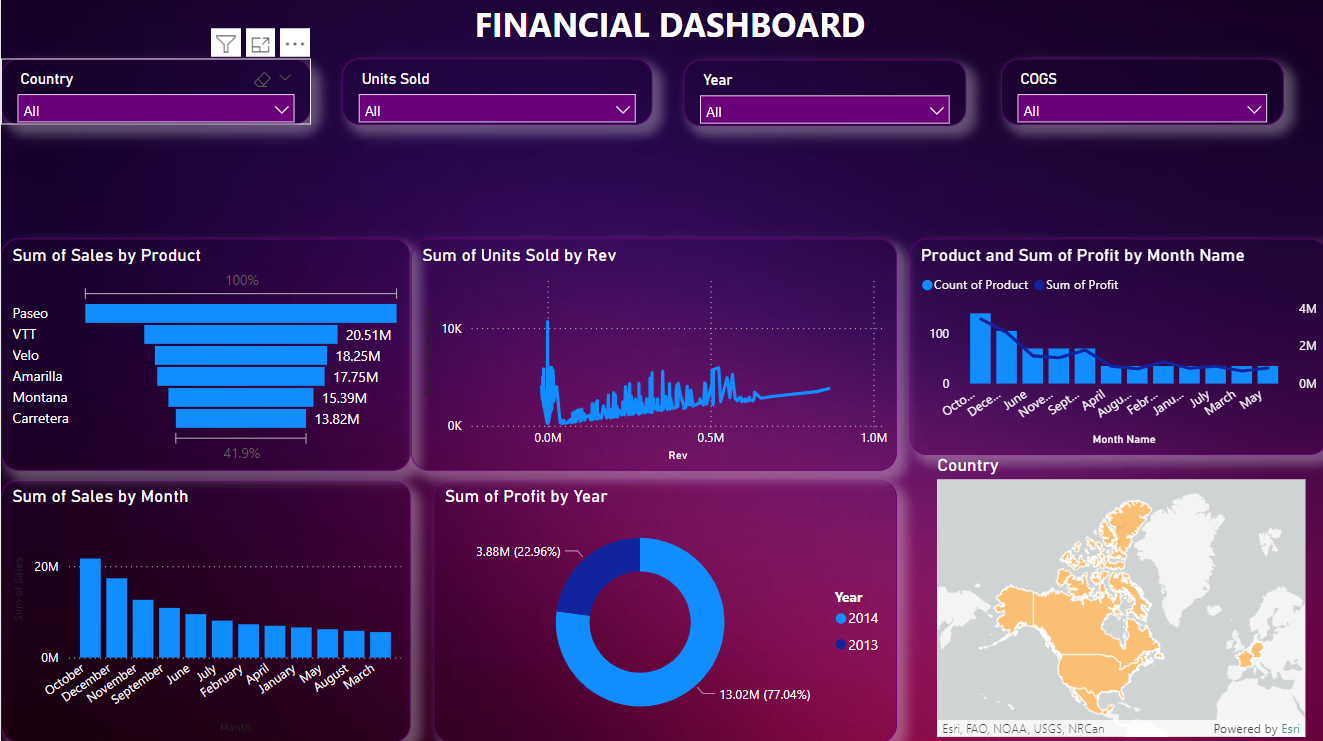

What the dashboard file says about the page in this screenshot:
{"tool":"powerbi","page":{"name":"Page 1","canvas":[1280,720],"ordinal":0},"visuals":[{"type":"textbox","box":[252.5,0,859,68.6],"z":0},{"type":"clusteredColumnChart","fields":{"Y":["Sum(financials. Sales)"],"Category":["financials.Month Name"]},"box":[0,466.7,395.6,253.3],"z":1000},{"type":"slicer","fields":{"Values":["financials.Country"]},"box":[0,60.3,299.1,63.9],"z":2000},{"type":"slicer","fields":{"Values":["financials.Units Sold"]},"box":[329.2,60.3,299.1,63.9],"z":3000},{"type":"slicer","fields":{"Values":["financials.Year"]},"box":[658.5,61.5,272.6,63.9],"z":4000},{"type":"donutChart","fields":{"Y":["Sum(financials.Profit)"],"Category":["financials.Year"]},"box":[417.3,466.7,447.4,253.3],"z":4001},{"type":"esriVisual","title":"Country","fields":{"Location":["financials.Country"]},"box":[898.5,442.6,365.4,277.4],"z":4002},{"type":"slicer","fields":{"Values":["financials.COGS"]},"box":[964.8,60.3,272.6,63.9],"z":4003},{"type":"funnel","fields":{"Category":["financials.Product"],"Y":["Sum(financials. Sales)"]},"box":[0,234,395.6,224.3],"z":4004},{"type":"lineChart","fields":{"Category":["financials.Rev"],"Y":["Sum(financials.Units Sold)"]},"box":[395.6,234,469.1,224.3],"z":4005},{"type":"lineStackedColumnComboChart","title":" Product and Sum of Profit by Month Name","fields":{"Y":["CountNonNull(financials.Product)"],"Y2":["Sum(financials.Profit)"],"Category":["financials.Month Name"]},"box":[876.8,234,402.8,208.6],"z":4006}]}

Visuals, with their boxes in screenshot pixels (x1, y1, x2, y2), scaled from the page's 1280x720 canvas onto the 1323x741 screenshot:
textbox: 261/0/1149/71
clusteredColumnChart - Sum(financials. Sales) x financials.Month Name: 0/480/409/740
slicer - financials.Country: 0/62/309/128
slicer - financials.Units Sold: 340/62/649/128
slicer - financials.Year: 681/63/962/129
donutChart - Sum(financials.Profit) x financials.Year: 431/480/894/740
"Country" esriVisual: 929/456/1306/740
slicer - financials.COGS: 997/62/1279/128
funnel - financials.Product x Sum(financials. Sales): 0/241/409/472
lineChart - financials.Rev x Sum(financials.Units Sold): 409/241/894/472
" Product and Sum of Profit by Month Name" lineStackedColumnComboChart: 906/241/1322/456
